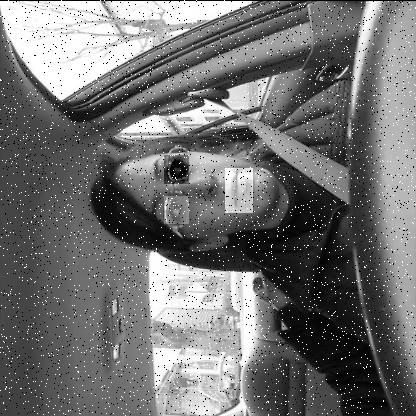seatbelt: (71, 121, 349, 264)
